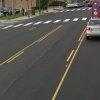Crosswalk: (5, 16, 82, 31)
